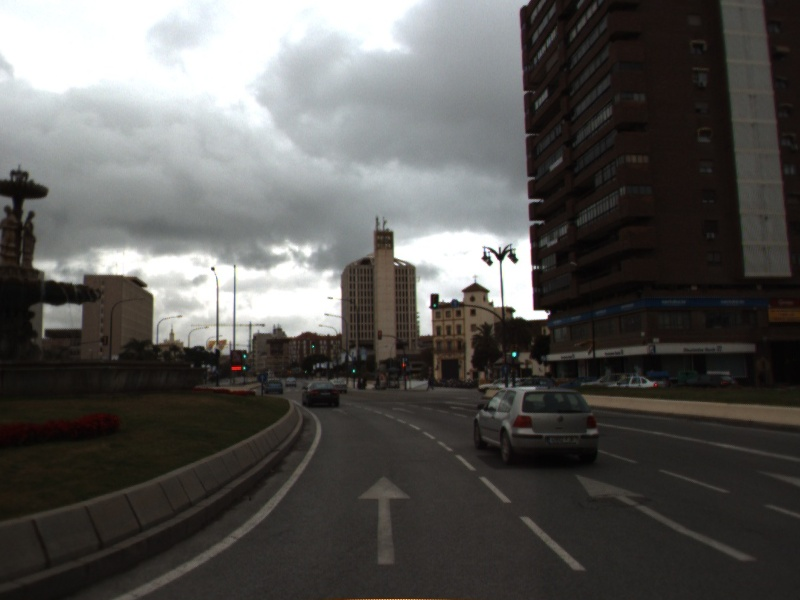STRAIGHT: (572, 470, 763, 564), (355, 473, 414, 567)
